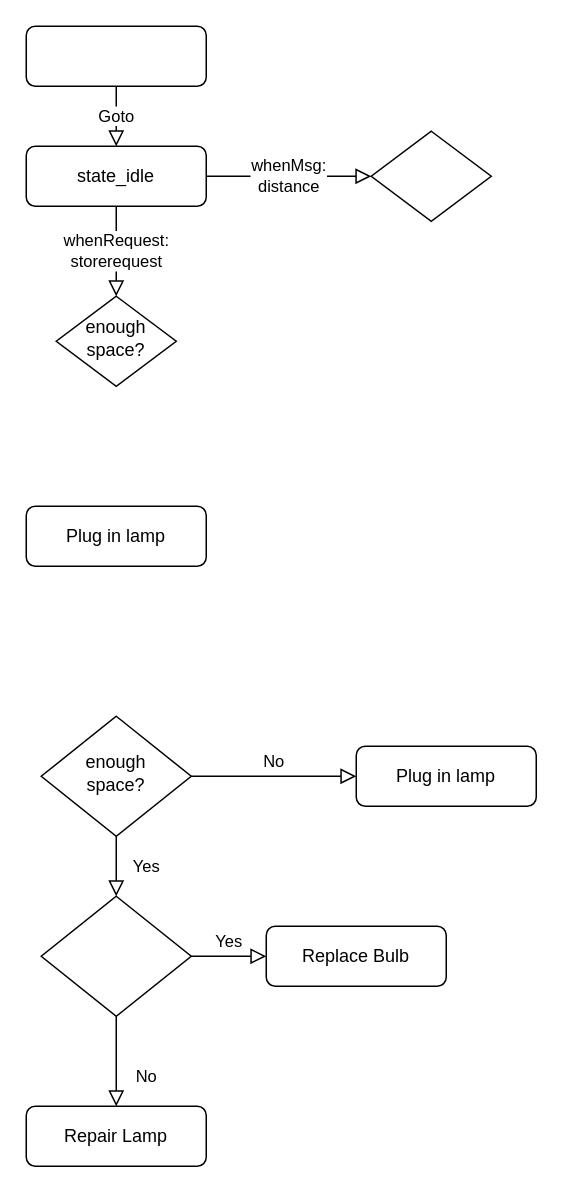
The diagram is 563 pixels wide and 1193 high, and some of its shapes have lost their labels. The shapes that lost their labels are listed below. From the top down, each one's box as (x1, y1, x2, y2) in pixels, then its label:
(25, 25, 206, 86): state_init
(370, 130, 491, 221): d ≥ DLIM
(40, 895, 191, 1016): Bulb burned out?
